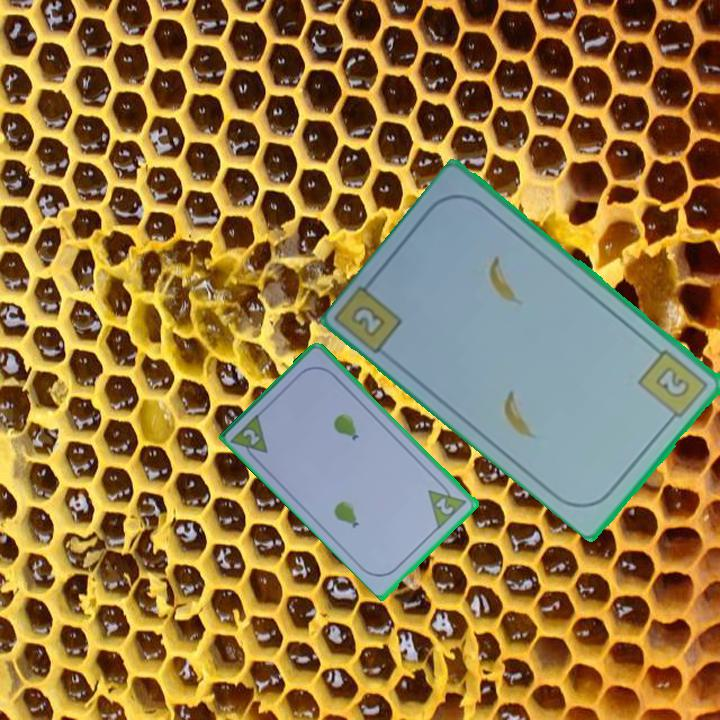2b: (635, 346, 712, 426), (351, 301, 389, 340)
2p: (228, 409, 271, 466), (433, 494, 457, 518)
